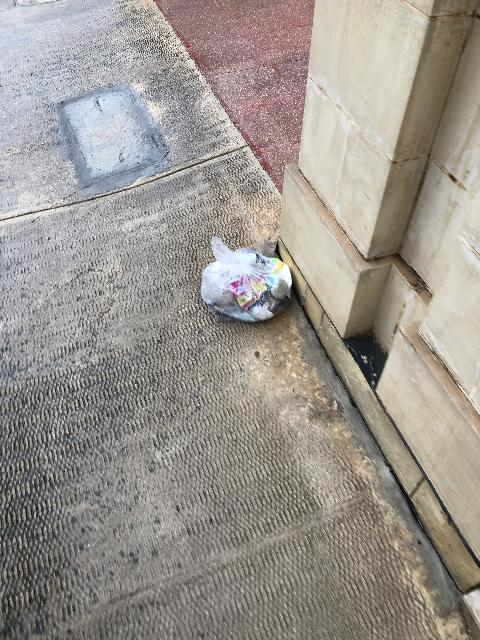Organic -White-: (201, 237, 292, 321)
